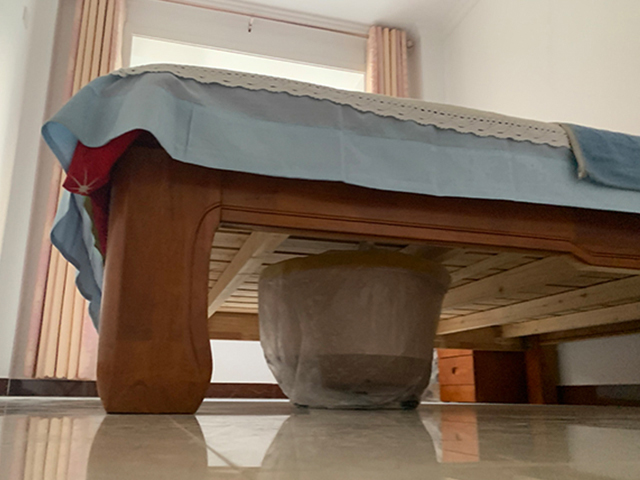bed: (40, 62, 640, 417)
cabinet: (437, 348, 531, 405)
curtain: (21, 1, 128, 381)
